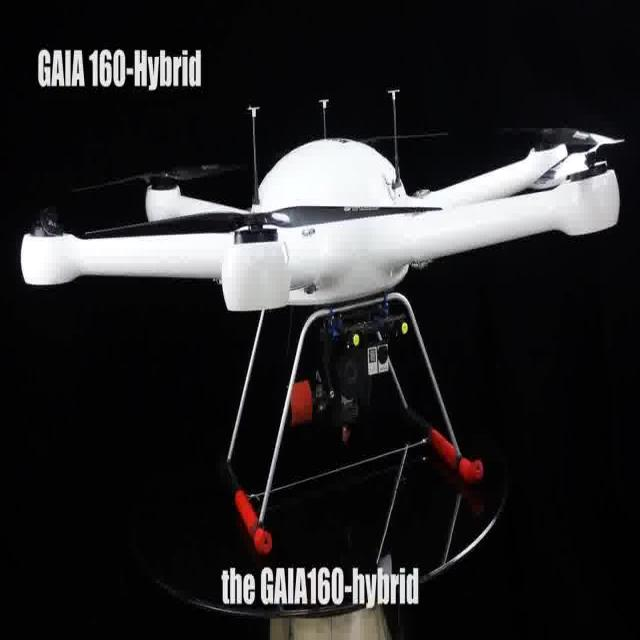drones: (19, 70, 622, 622)
